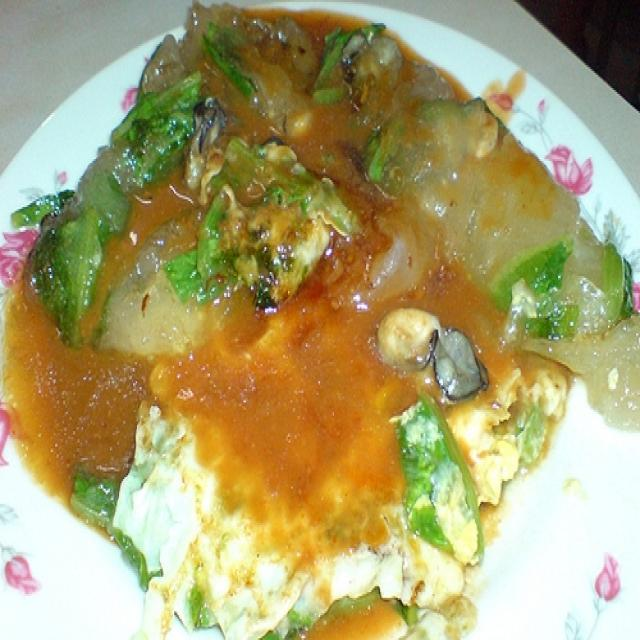熟制海鲜: (12, 12, 613, 617)
